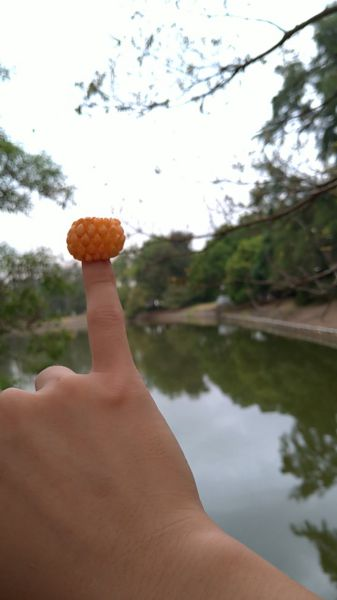eggs: (67, 218, 126, 263)
